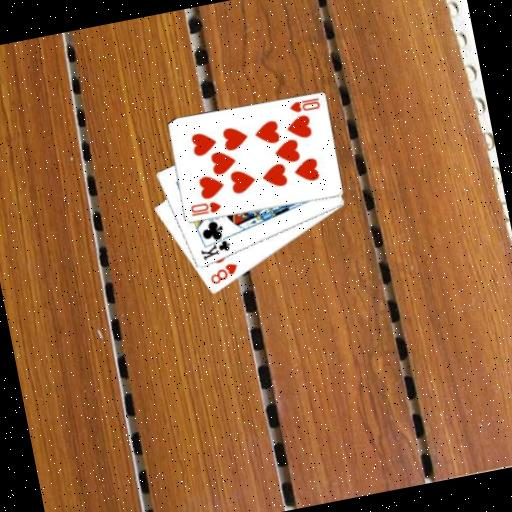10H: (187, 197, 223, 219), (286, 95, 322, 117)
8H: (205, 259, 241, 287)
KC: (196, 232, 235, 262)
